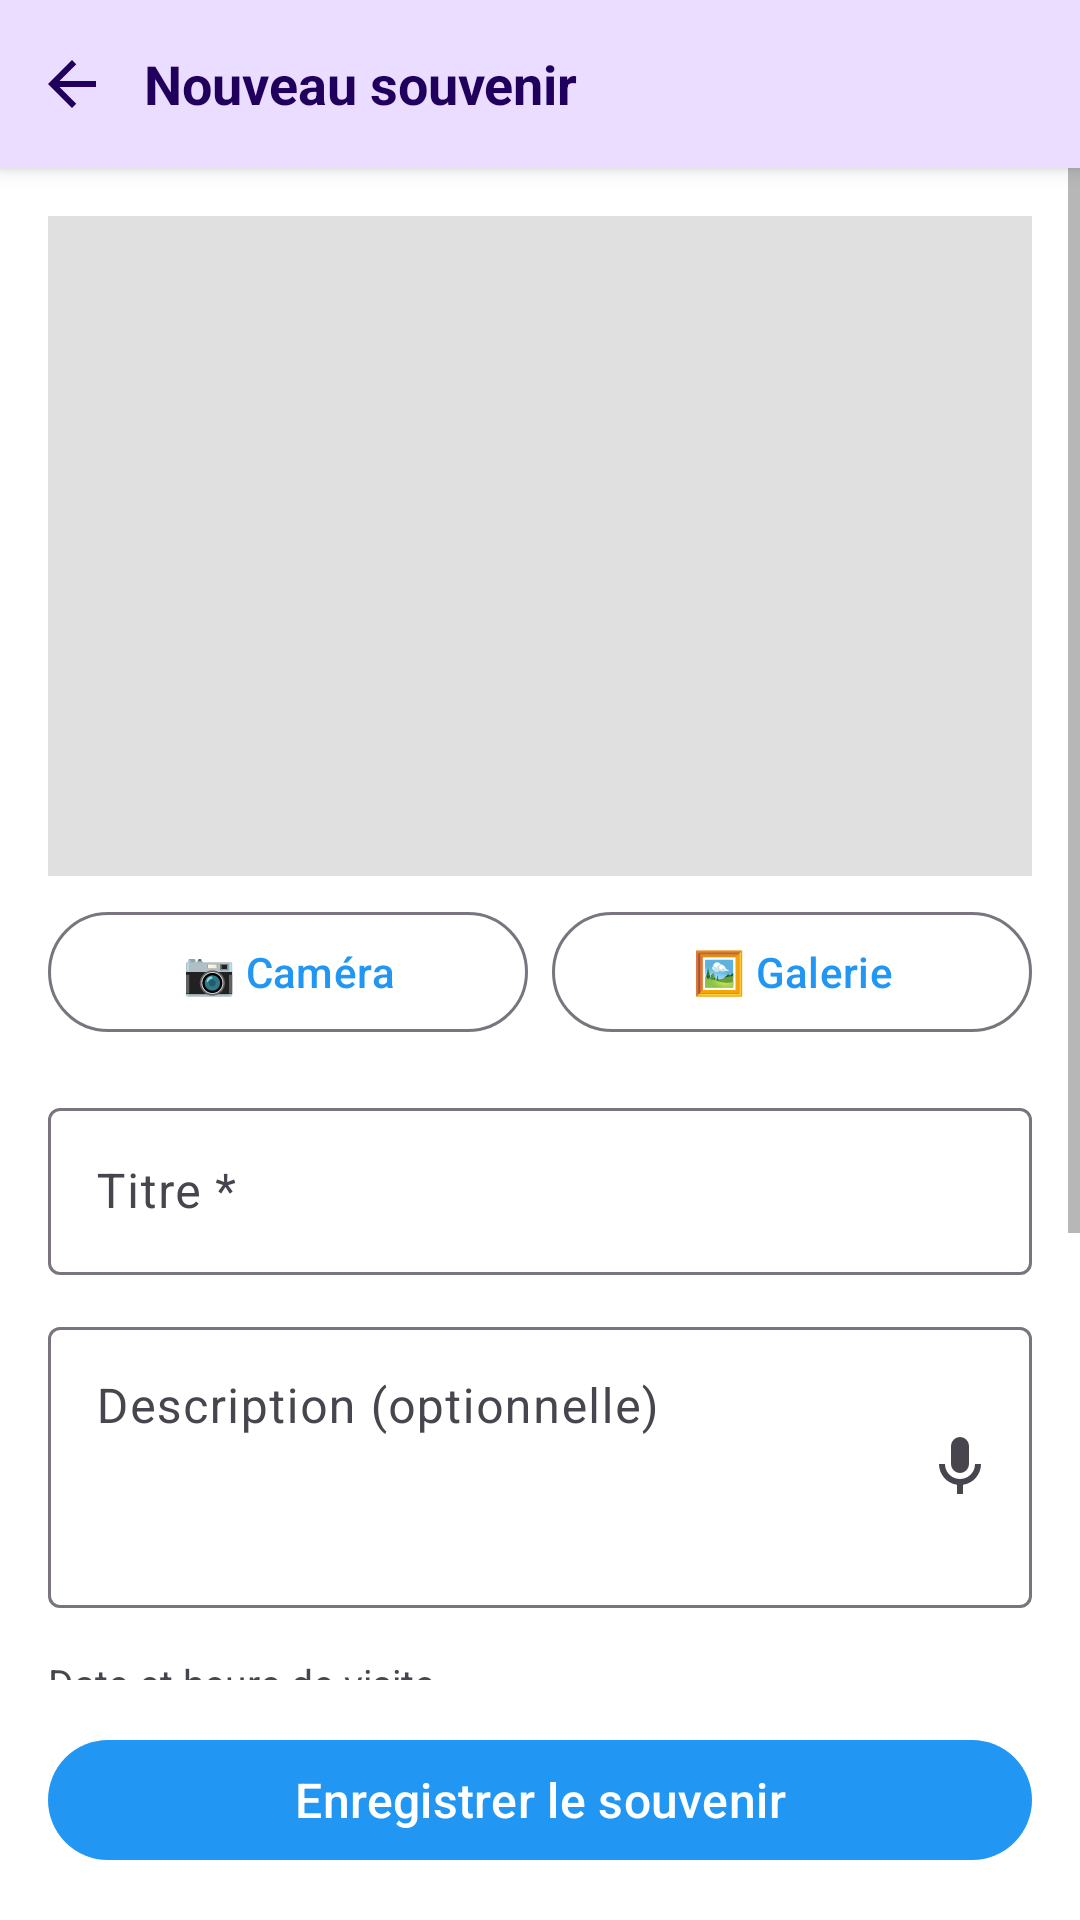

Point at icon controls on the screen. Image size 1080px x 1920px, points as [x,y].
Retour: [72,84]
